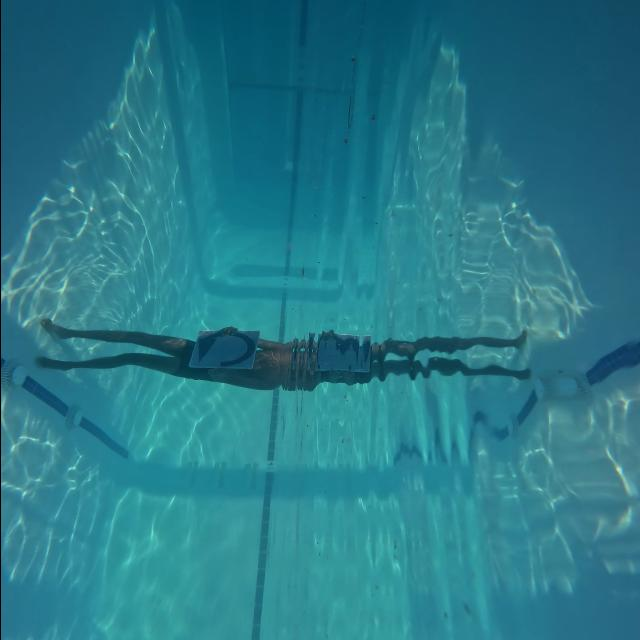blue_side: (186, 328, 265, 371)
